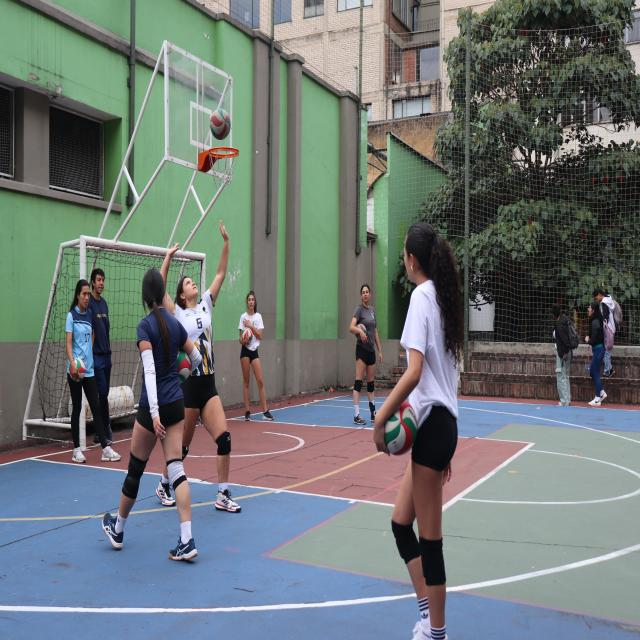volleyball: (385, 400, 418, 455), (210, 108, 230, 140), (176, 346, 192, 384), (71, 359, 85, 382), (242, 327, 253, 343), (356, 323, 367, 336)
